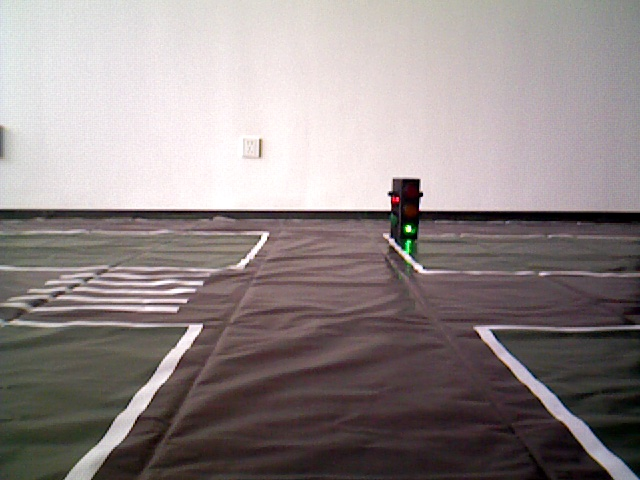green: (391, 177, 419, 238)
